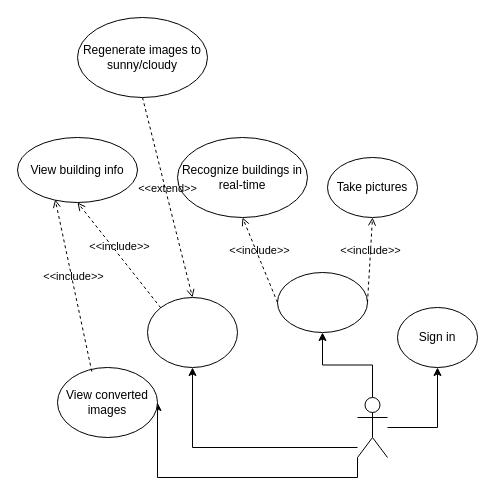
Some shapes in this 495 by 503 pixel diagram are drawn without their labels. The box of each missing label's shape, as (x1, y1, x2, y2) in pixels:
Access camera: (276, 272, 368, 332)
User: (356, 396, 388, 458)
View images taken: (146, 296, 238, 368)
